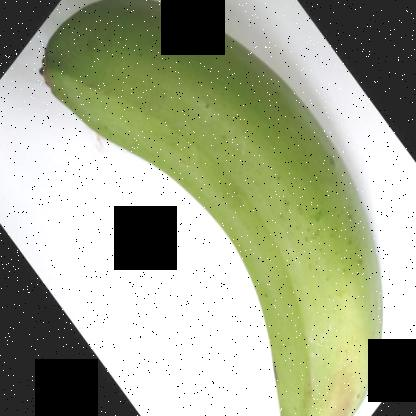freshunripe: (42, 0, 392, 415)
